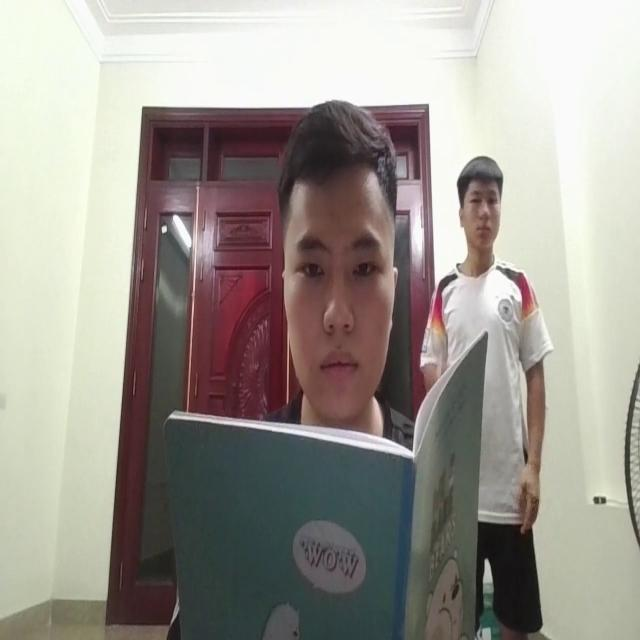book: (163, 344, 489, 640)
extra_person: (438, 159, 548, 525)
student: (273, 102, 404, 440)
